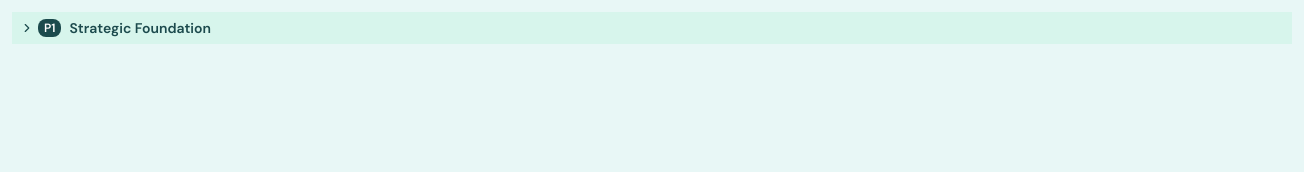
CatalogueTree › renders pillar headers and expands on click
Click the text "Strategic Foundation". click: (140, 28)
box: [69, 18, 211, 38]
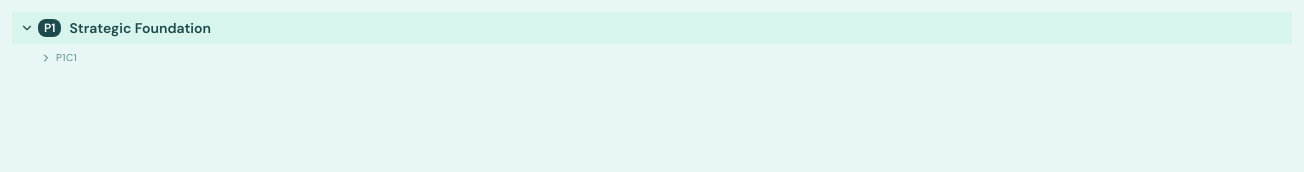
Check: the text "P1C1" is shown, box [56, 48, 77, 68]
